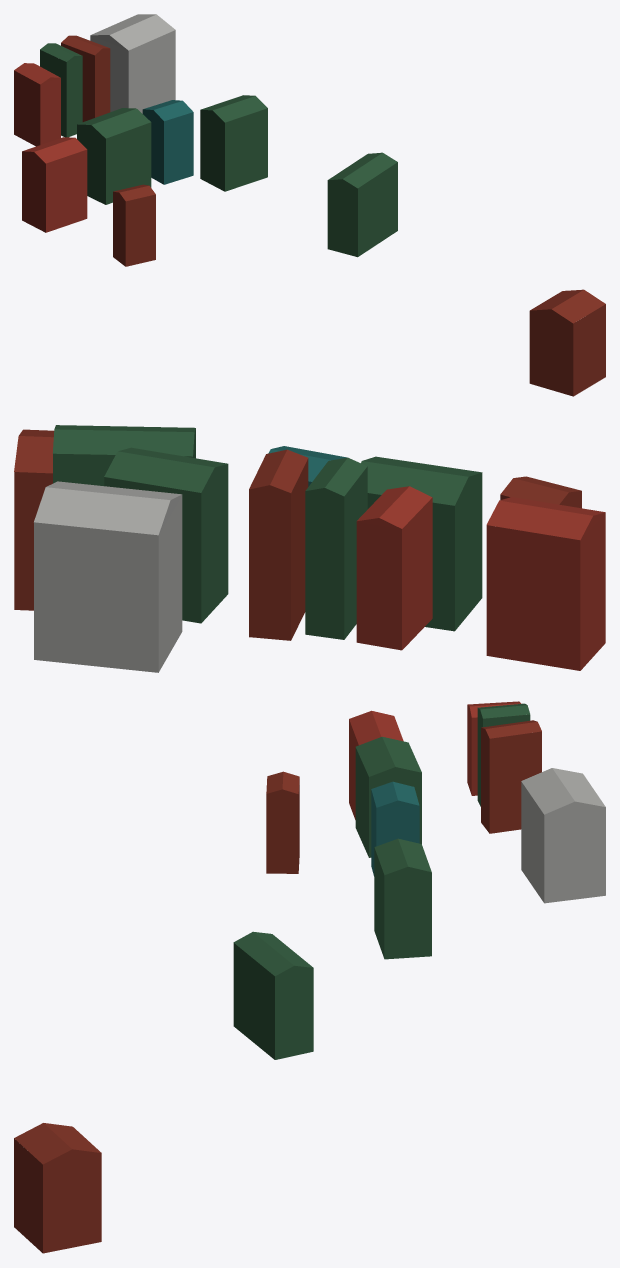
File: near-15-27366-14880.95c755ba.glb
3 renders of one model, top to bottom at view 1: azimuth 30°, elevation 25°; view 2: azimuth 150°, elevation 25°; view 3: azimuth 270°, elevation 25°, orthographic. The views are drawn at different scales.
Bounding box in the file's own units: 123 × 73.47 × 118.
